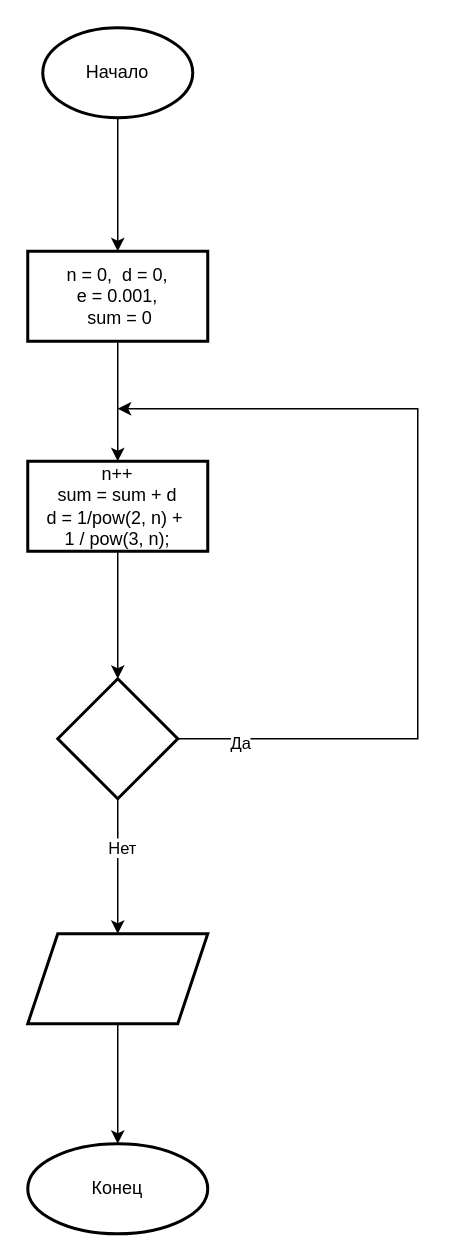
The diagram is 456 pixels wide and 1260 high, and some of its shapes have lost their labels. The centre of each missing label's shape, as x and y in pixels:
d >= e: point 117,738
Выводим sum: point 117,978
